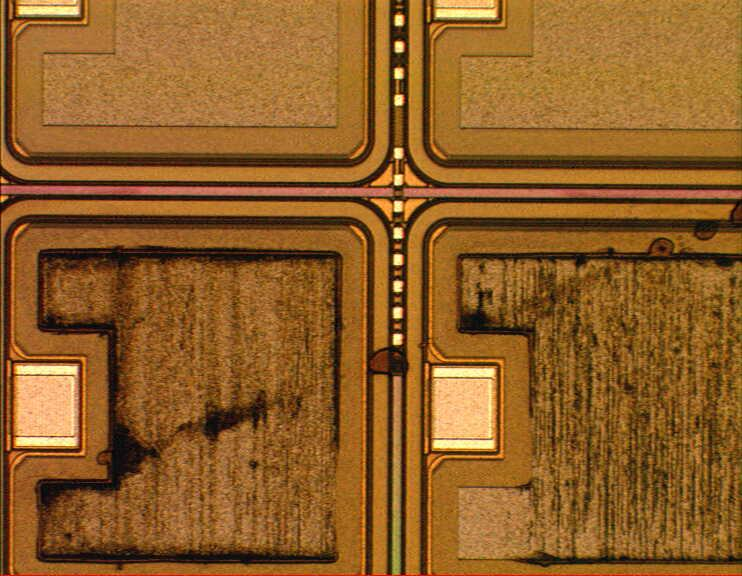SEZ BURNT: (37, 249, 742, 566)
